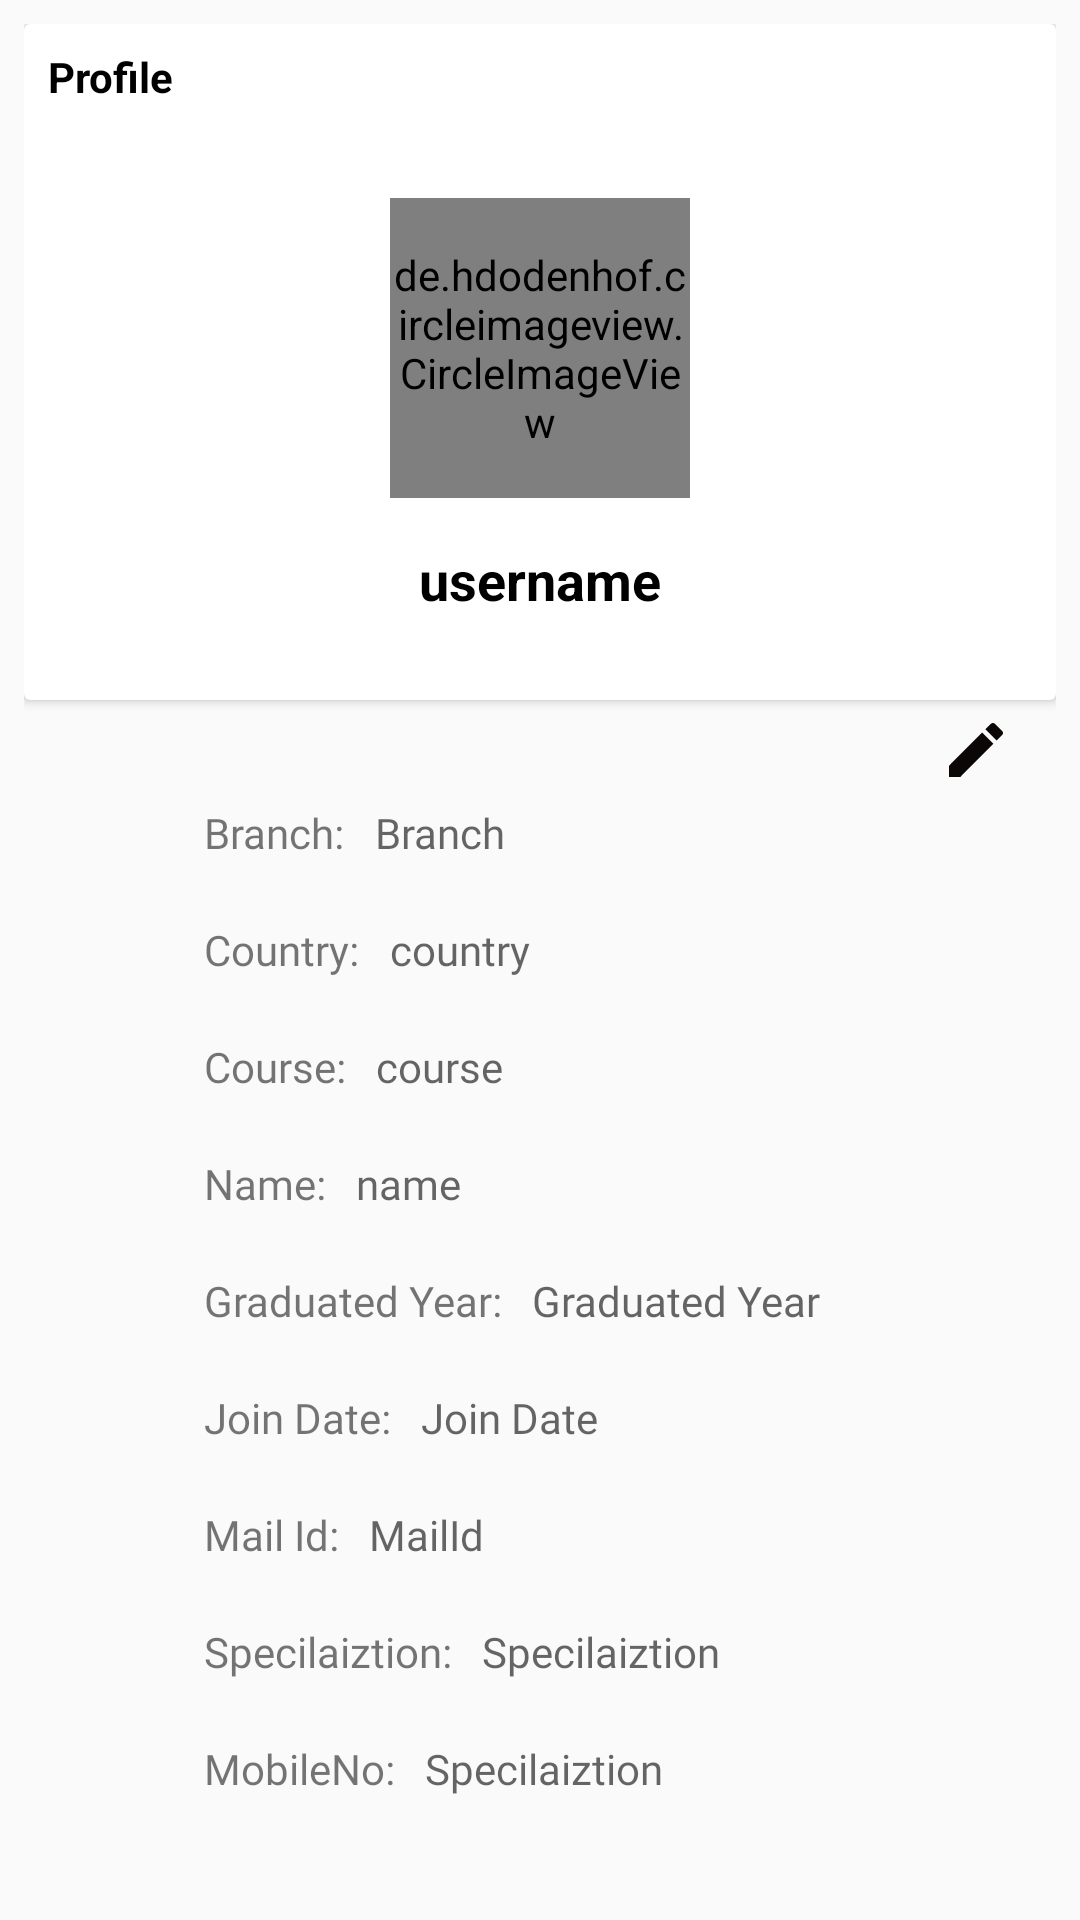

Icons on this 1080×1920 Android screen, each with its box as (x1, y1, x2, y2):
modify: (949, 723, 1003, 777)
